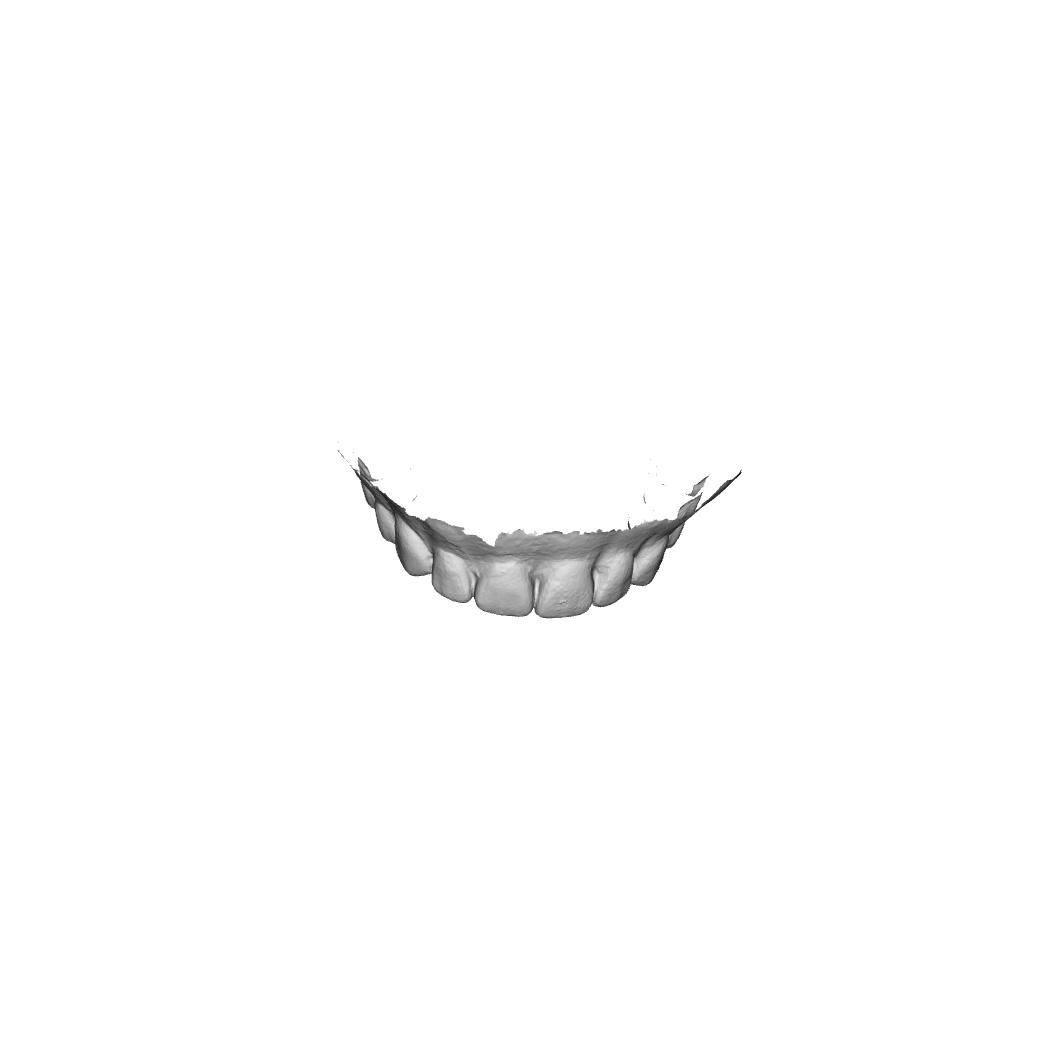canine: (395, 510, 434, 577), (630, 533, 669, 587)
incisor: (473, 554, 535, 618), (533, 560, 595, 619), (431, 540, 475, 605), (591, 546, 635, 609)
premolar: (373, 497, 397, 544)
